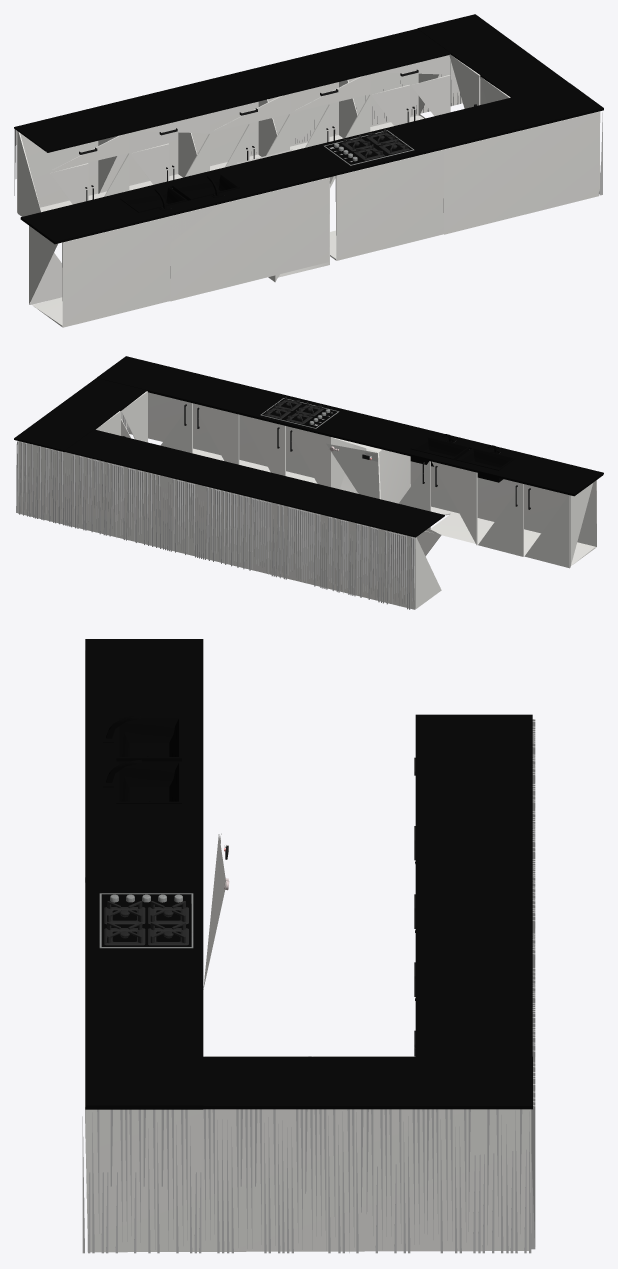
The model's file is kitchen_counters.glb.
3 renders of one model, top to bottom at view 1: azimuth 30°, elevation 25°; view 2: azimuth 150°, elevation 25°; view 3: azimuth 270°, elevation 25°, orthographic. The views are drawn at different scales.
Visible parts, largest first — view 1: kitchen_counters; view 2: kitchen_counters; view 3: kitchen_counters.
Boxes of the visible parts, box(x1,y1,x2,y2) form: kitchen_counters: box(14, 14, 603, 327); kitchen_counters: box(14, 356, 603, 609); kitchen_counters: box(82, 639, 535, 1253).
Size of the model in its own units: 6.73 by 1.26 by 2.76.
Materials: 4 (3 with a texture image).
